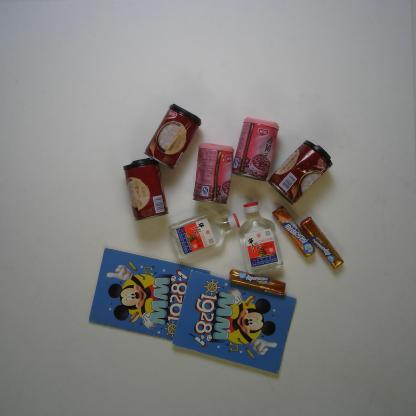Alcohol: (168, 206, 248, 261), (232, 197, 284, 276)
Candy: (300, 215, 352, 274), (274, 203, 315, 265), (224, 263, 295, 297)
Canned Food: (269, 137, 350, 210), (145, 102, 208, 170), (232, 113, 288, 186), (186, 138, 244, 206), (120, 156, 171, 219)
Stationery: (85, 245, 212, 359), (171, 268, 300, 377)
